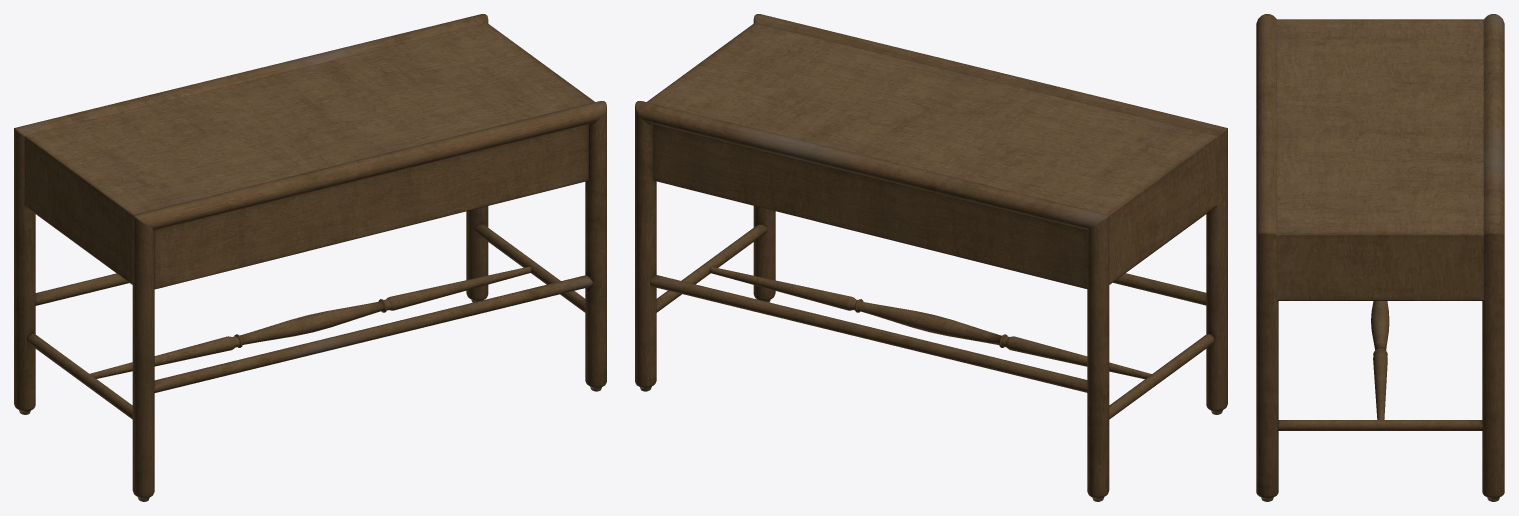
The model's file is console_2.glb.
3 renders of one model, left to right at view 1: azimuth 30°, elevation 25°; view 2: azimuth 150°, elevation 25°; view 3: azimuth 270°, elevation 25°, orthographic. The views are drawn at different scales.
Visible parts, largest first — view 1: console_entre_0; view 2: console_entre_0; view 3: console_entre_0.
Boxes of the visible parts, x1,y1,x2,y2 form: console_entre_0: (14, 14, 606, 501); console_entre_0: (635, 14, 1227, 501); console_entre_0: (1256, 14, 1504, 501).
Bounding box in the file's own units: 0.9162 × 0.5331 × 0.4399.
1 material, 1 textured.
